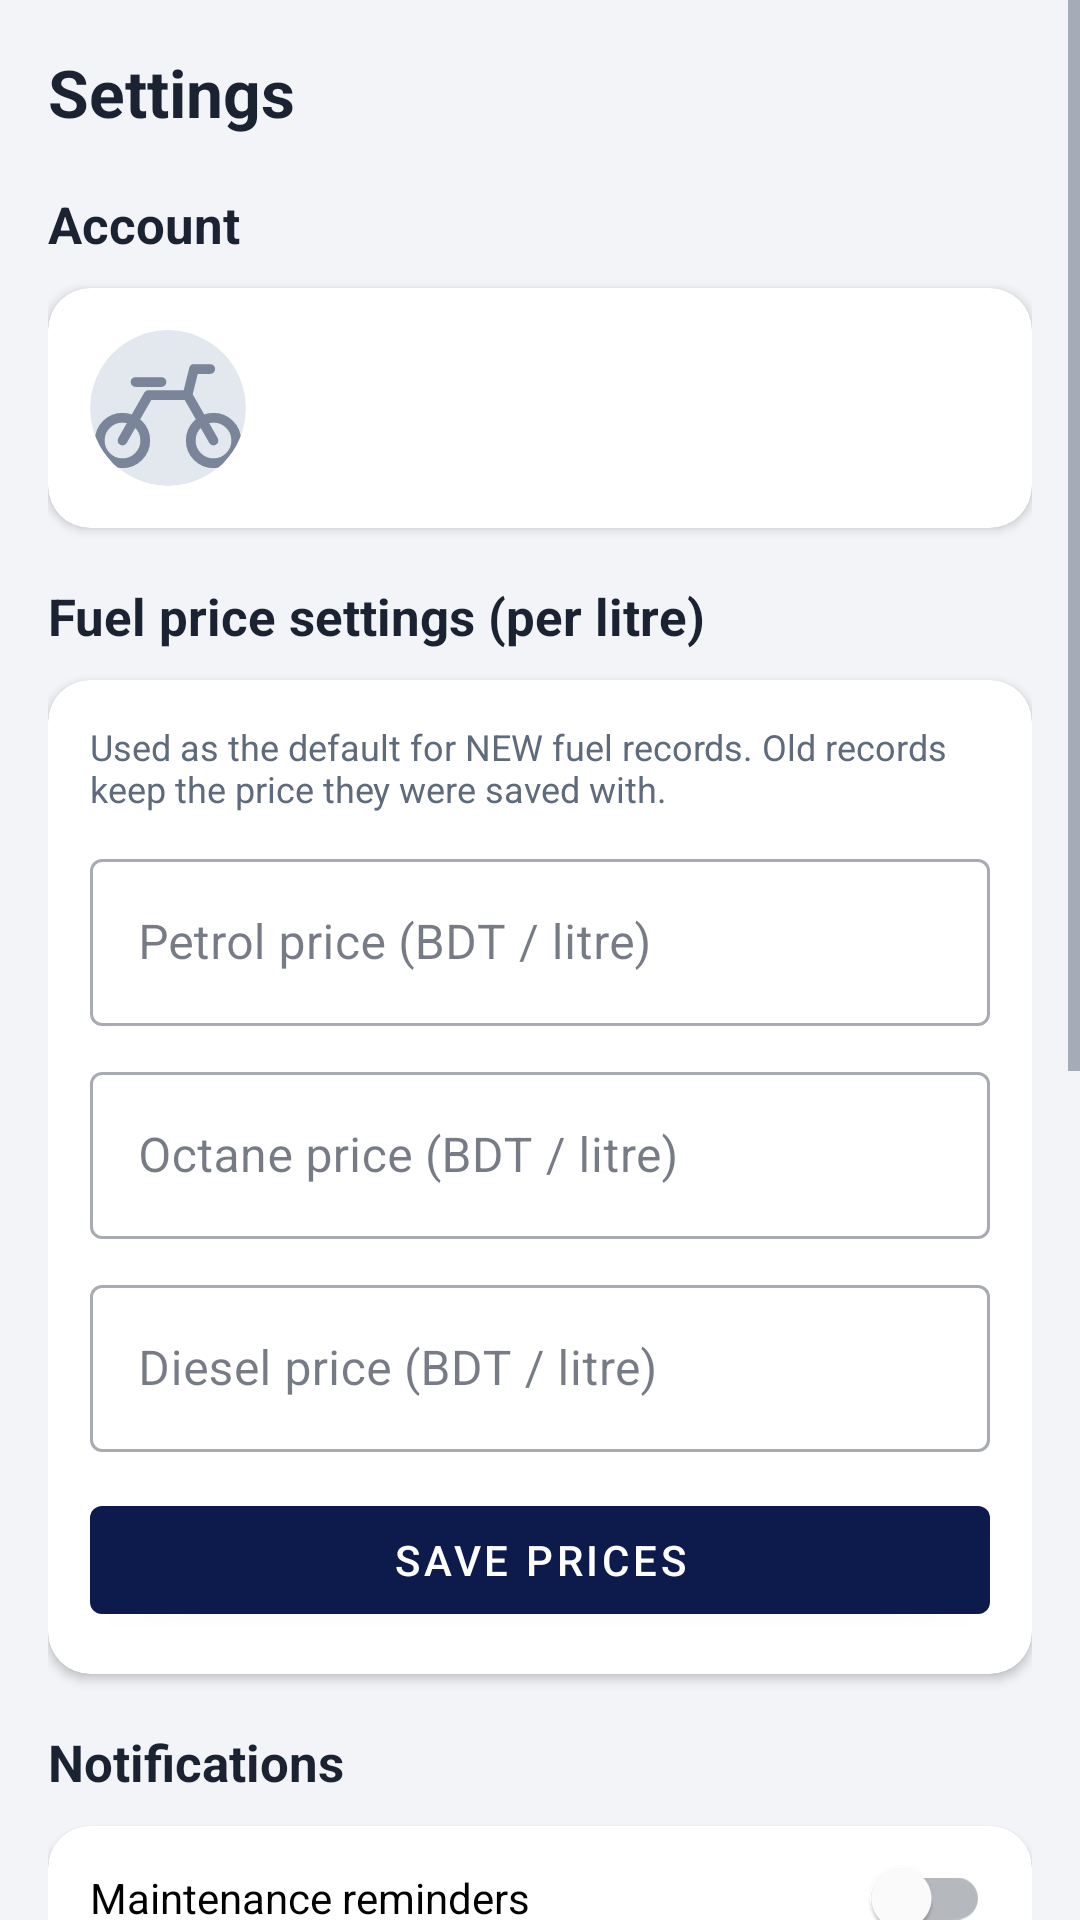

Icon click points for this 1080×1920 phone screenshot, format (x=x, y=y):
bike: (x=168, y=408)
